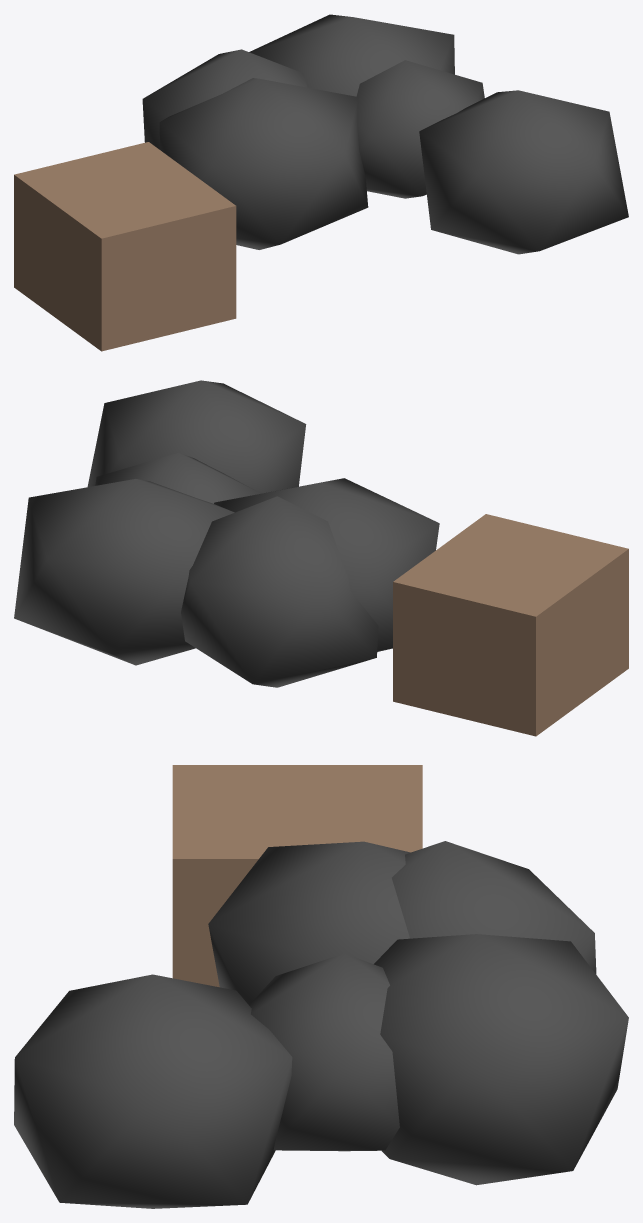
Rendered from trash_bags.glb.
3 renders of one model, top to bottom at view 1: azimuth 30°, elevation 25°; view 2: azimuth 150°, elevation 25°; view 3: azimuth 270°, elevation 25°, orthographic. The views are drawn at different scales.
Visible parts, largest first — view 1: trash_bags; view 2: trash_bags; view 3: trash_bags.
Part boxes in pixels (x1,y1,x2,y2): trash_bags: (14, 14, 628, 351); trash_bags: (14, 380, 628, 736); trash_bags: (14, 765, 628, 1208).
Bounding box in the file's own units: 1.49 × 0.5148 × 1.11.
